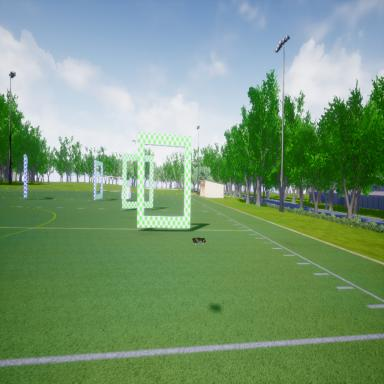gate: (136, 126, 195, 233), (120, 150, 156, 210), (94, 157, 104, 202)
